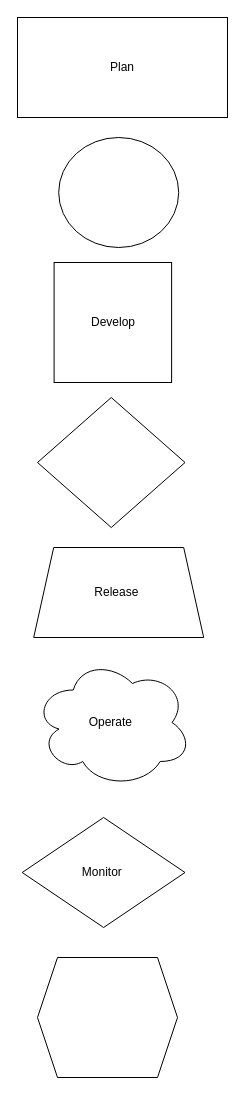
The diagram is 245 pixels wide and 1095 high, and some of its shapes have lost their labels. The centre of each missing label's shape, as x and y in pixels:
"Bulid" belongs at pixel 118 192.
"Deploys" belongs at pixel 107 1017.
"Test" belongs at pixel 110 462.
